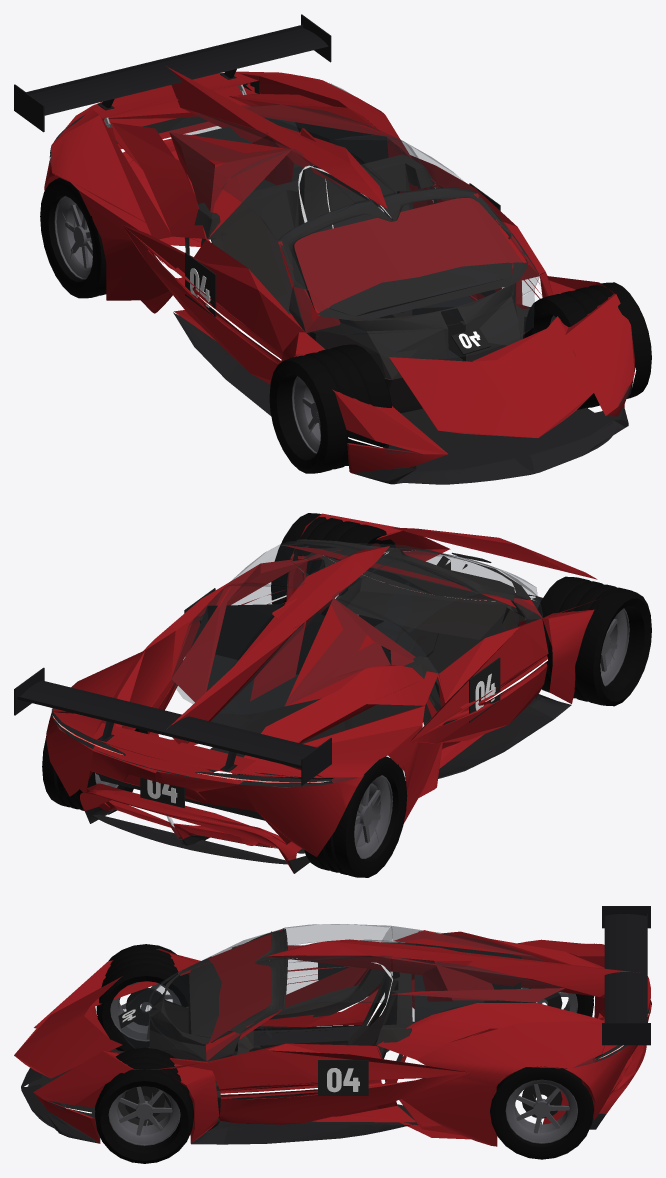
File: vanta_lod1.glb
The picture shows the model from 3 angles, top to bottom: view 1: azimuth 30°, elevation 25°; view 2: azimuth 150°, elevation 25°; view 3: azimuth 270°, elevation 25°; orthographic projection. The views are drawn at different scales.
Parts seen in each view (by area): view 1: Body, Wheel_FR, Wheel_RR, Wheel_FL; view 2: Body, Wheel_FR, Wheel_RR, Wheel_FL, Wheel_RL; view 3: Body, Wheel_FL, Wheel_RL, Wheel_FR, Wheel_RR.
Part boxes in pixels (box(x1,y1,x2,y2)): Body: box(14, 14, 636, 484); Wheel_FR: box(269, 344, 391, 473); Wheel_RR: box(40, 177, 106, 298); Wheel_FL: box(524, 282, 651, 409); Body: box(14, 513, 597, 873); Wheel_FR: box(530, 576, 651, 706); Wheel_RR: box(304, 756, 407, 877); Wheel_FL: box(271, 513, 395, 626); Wheel_RL: box(42, 728, 147, 814); Body: box(14, 906, 651, 1146); Wheel_FL: box(95, 1047, 193, 1163); Wheel_RL: box(490, 1067, 593, 1159); Wheel_FR: box(96, 944, 188, 1051); Wheel_RR: box(521, 987, 593, 1016).
Bounding box in the file's own units: 2.25 × 1.24 × 4.54.
6 materials, 1 textured.
